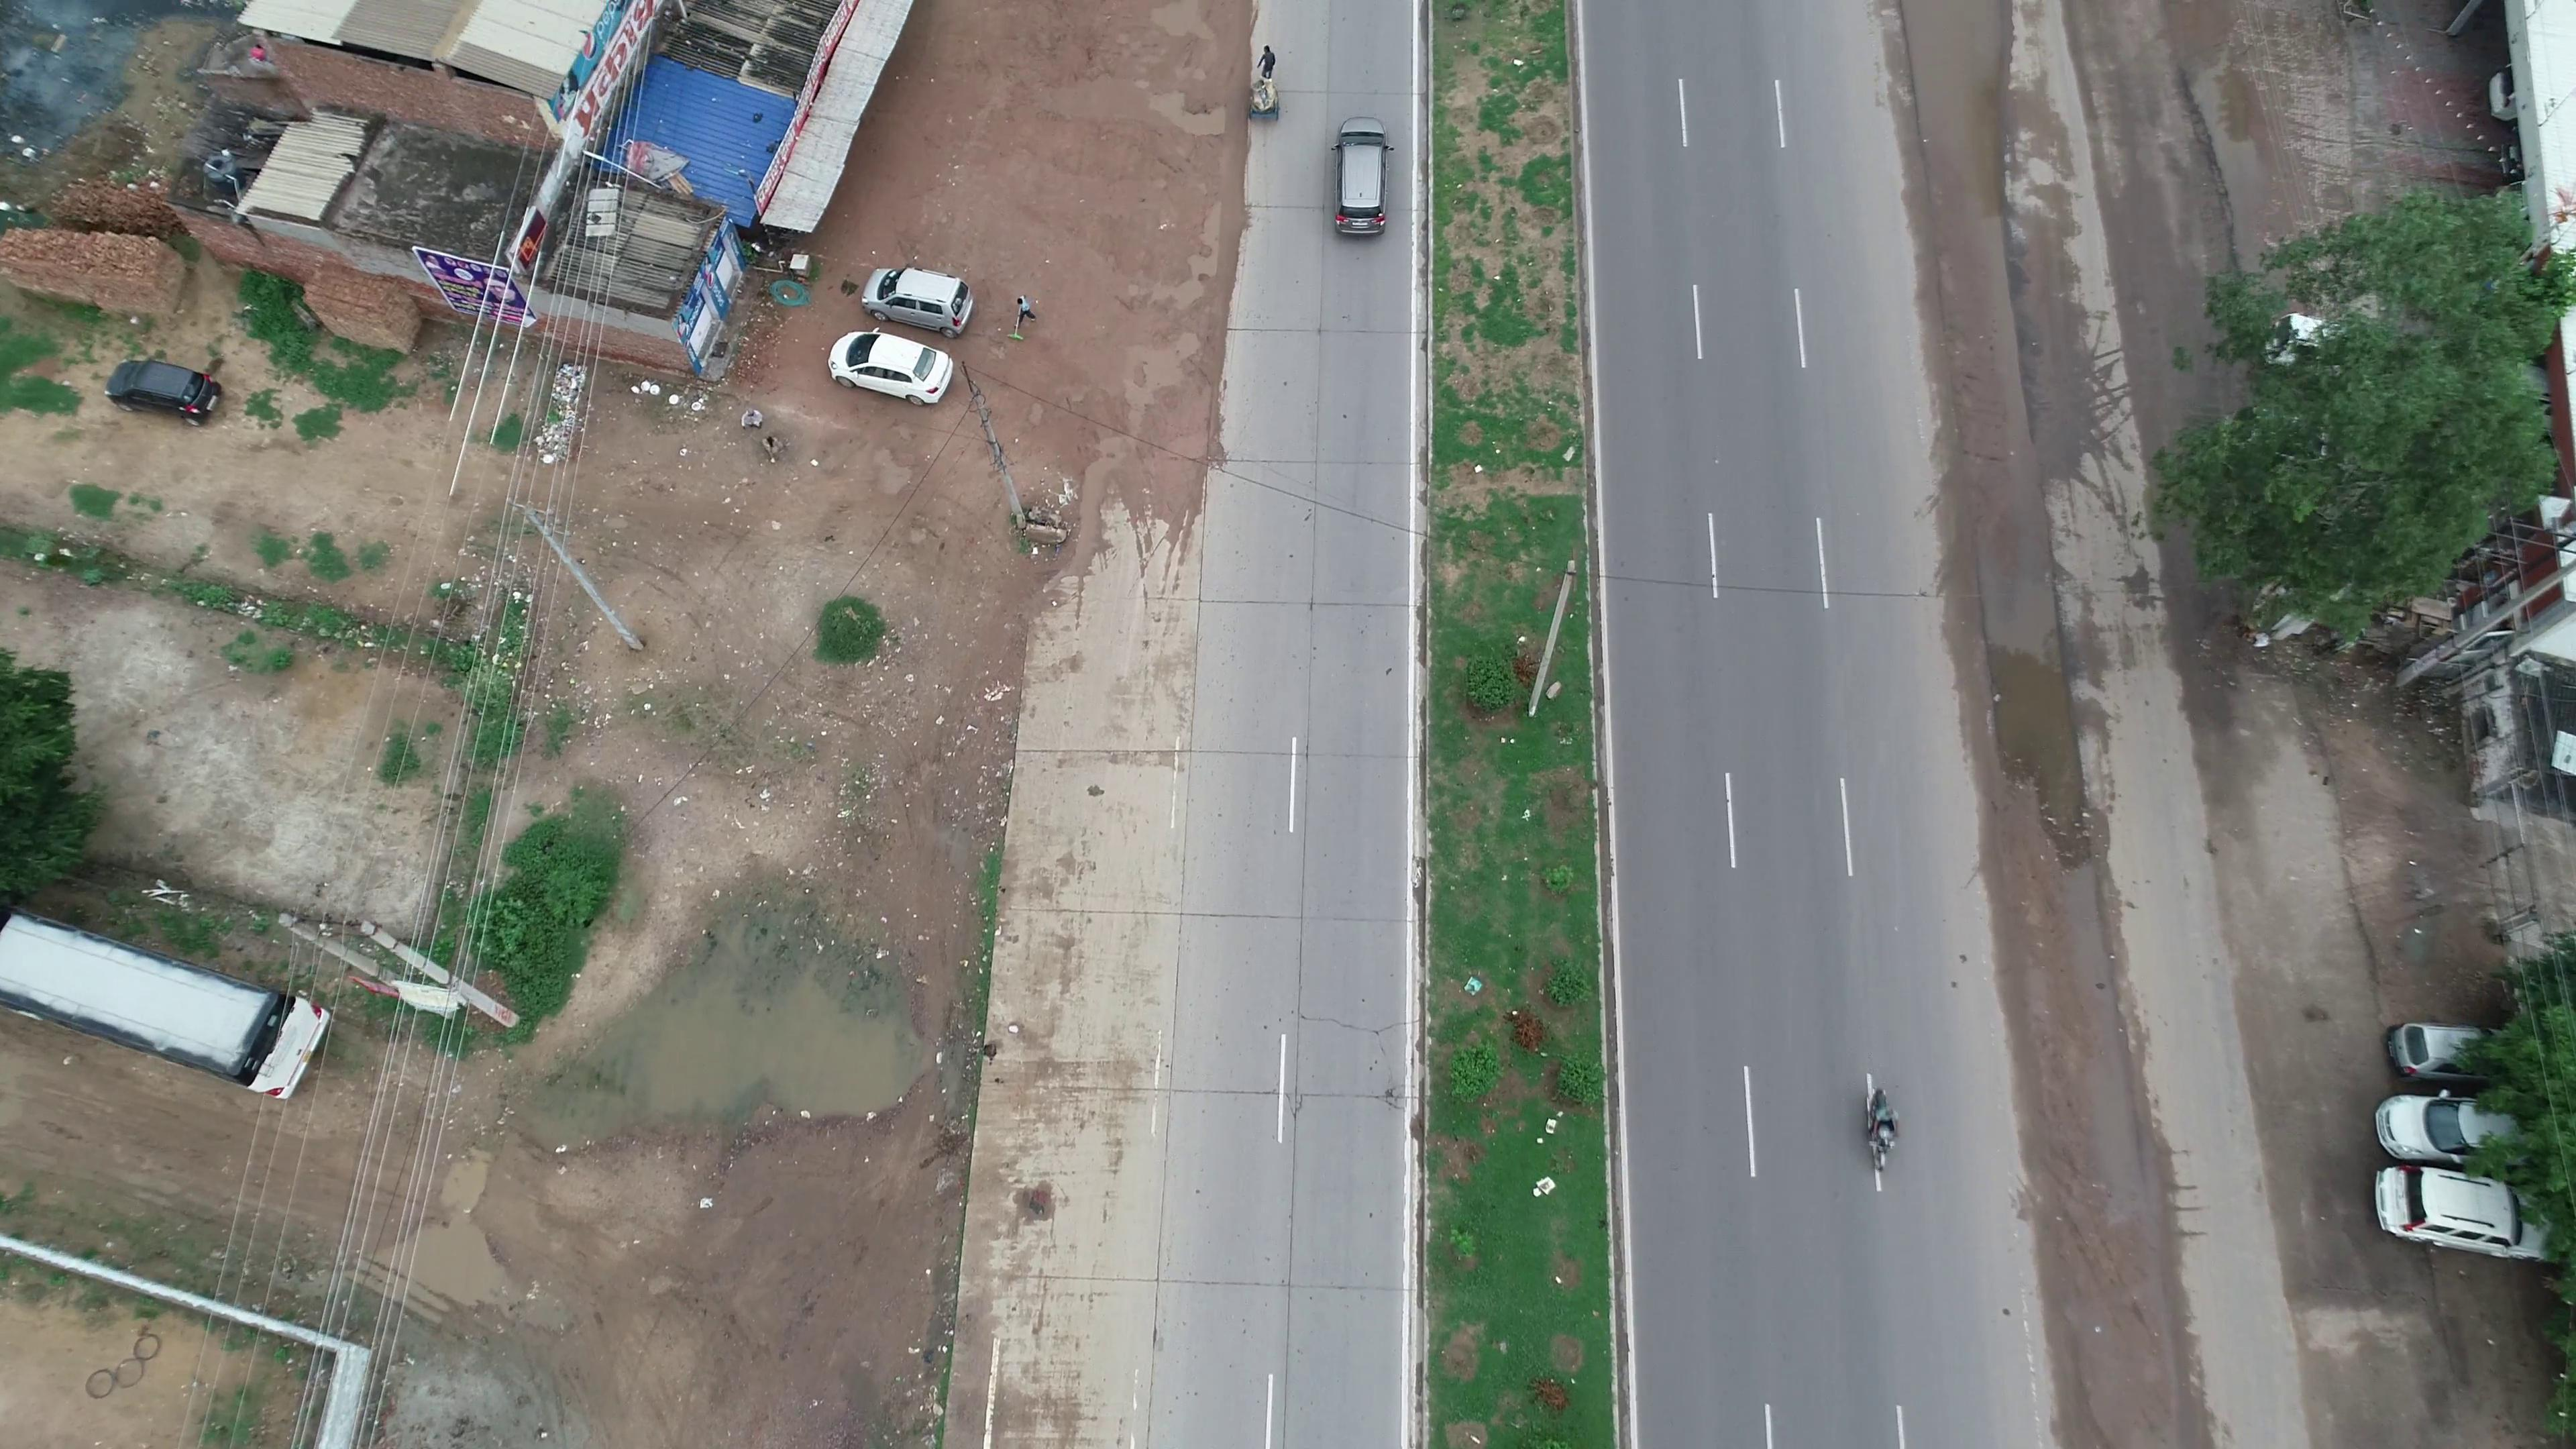Waterlogging: (1992, 580, 2111, 869)
